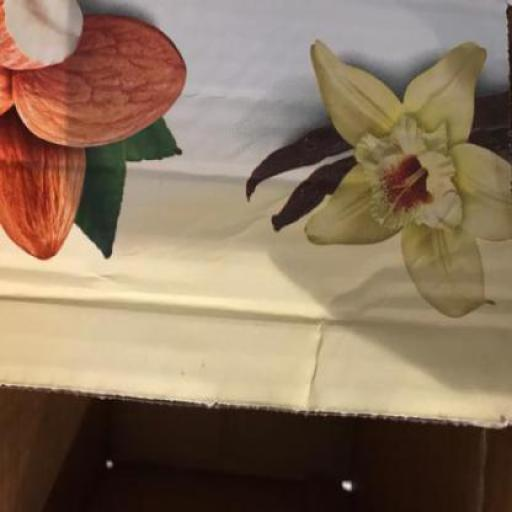cardboard: (0, 0, 511, 511), (0, 0, 511, 428)
